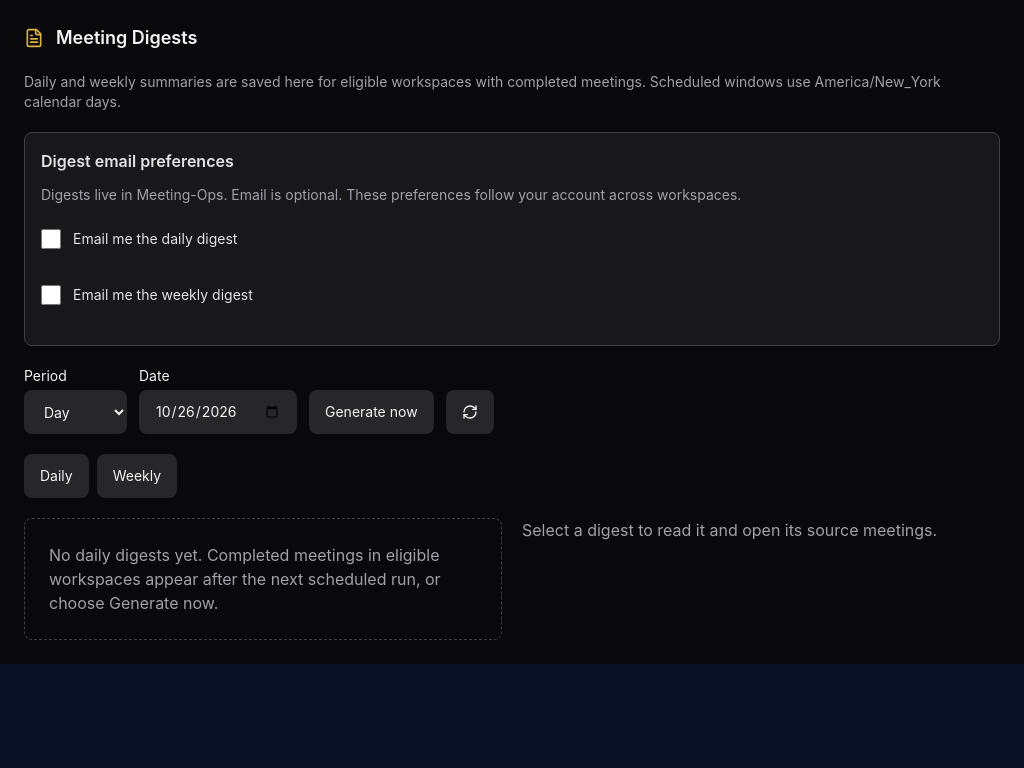
Digests › fetches /api/digests with the selected period and renders the response
The image size is (1024, 768).
Expected: the heading "Meeting Digests" is shown, [24,27,197,48]
What coordinates should you click on to do the following:
click the button "Generate now"
I would click on:
 (371, 412)
Its box is [309,390,434,434].
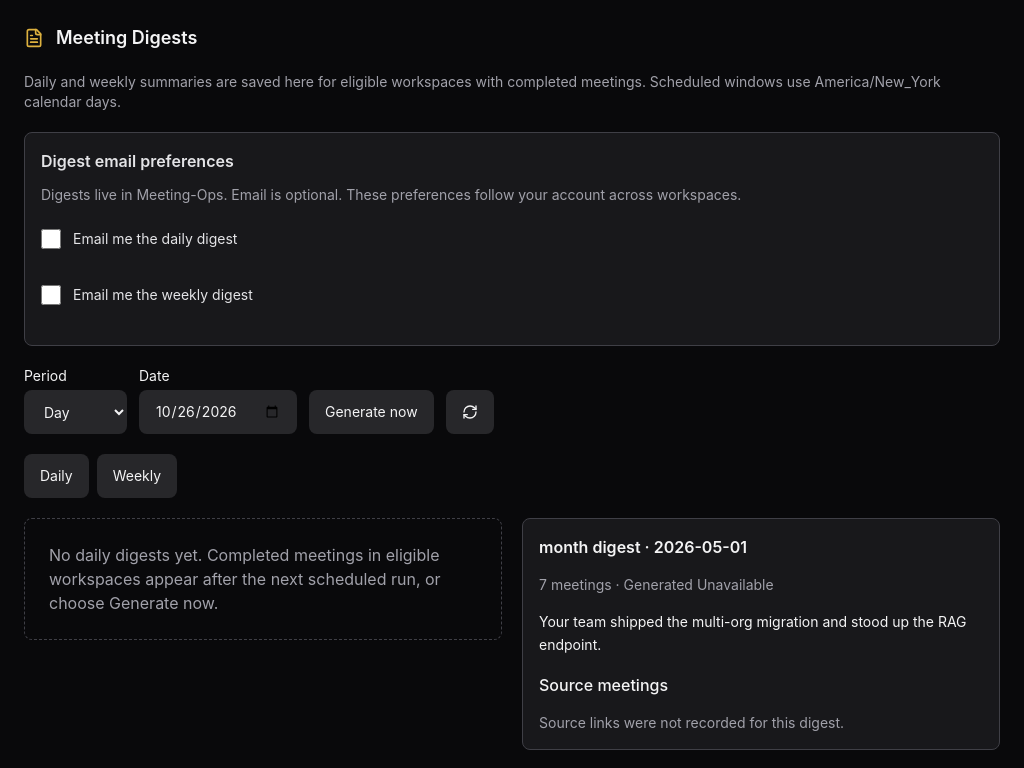
Expected: the text "Your team shipped the multi-org migration" is shown, [539,613,970,653]
